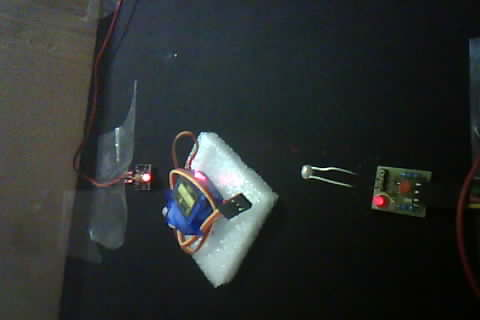motor: (154, 119, 264, 270)
